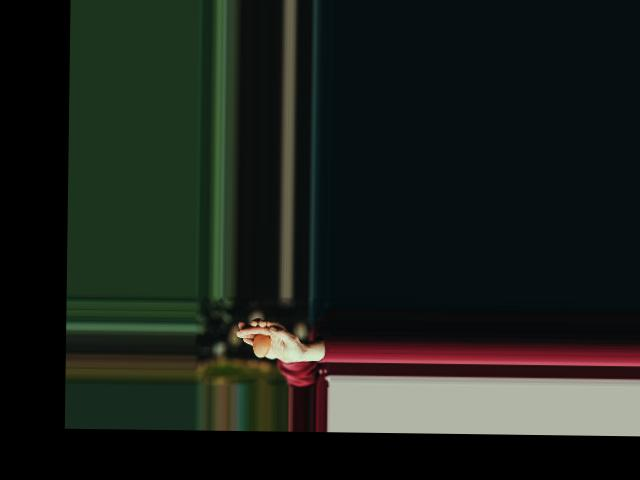egg: (253, 334, 271, 357)
